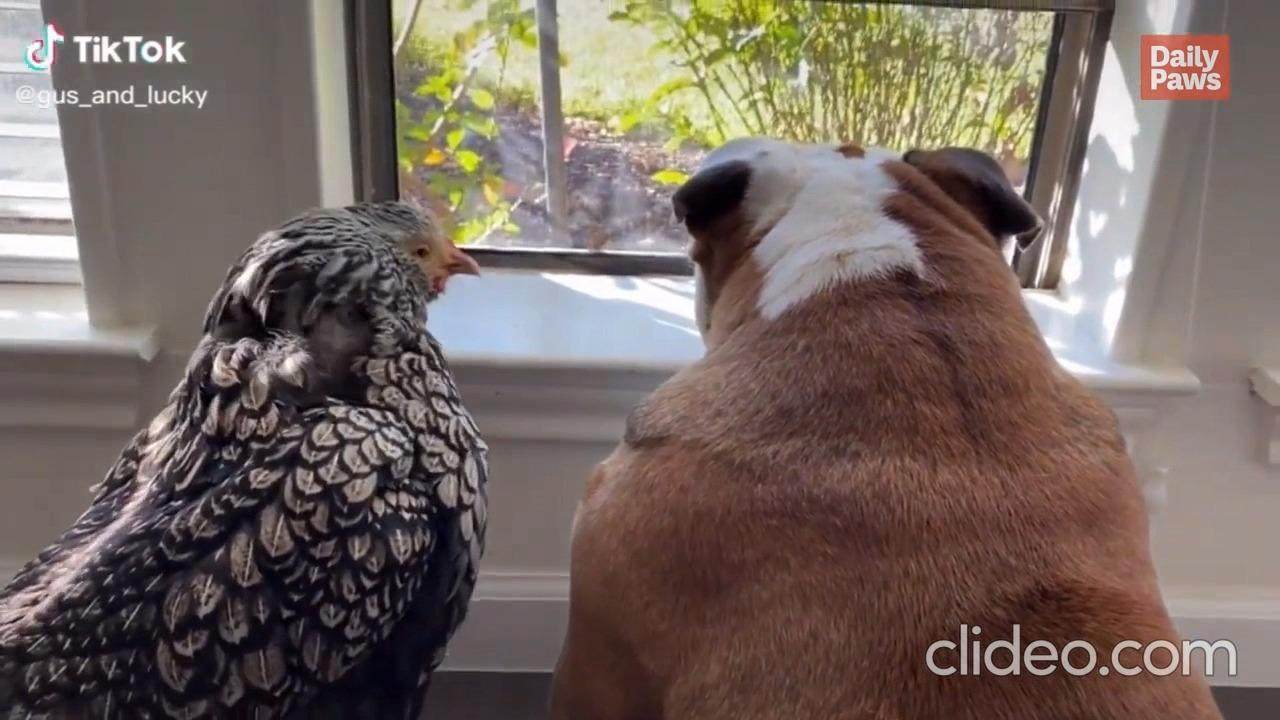Normal: (132, 202, 491, 680)
